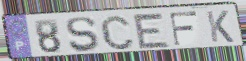8: (34, 18, 63, 55)
C: (98, 13, 137, 51)
E: (131, 13, 173, 50)
F: (168, 10, 199, 47)
K: (204, 10, 236, 44)
S: (65, 16, 100, 54)
